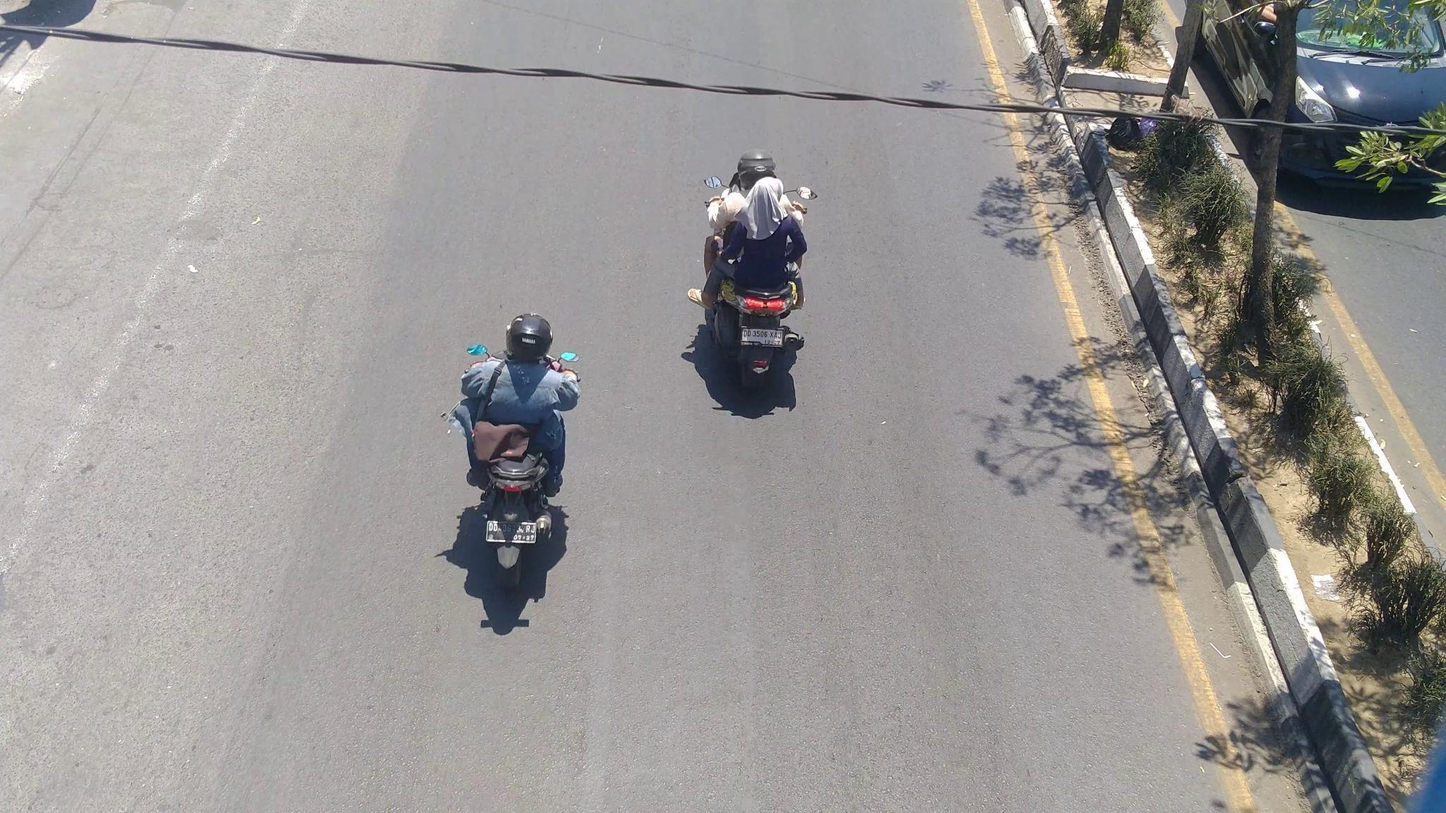Helmet: (502, 306, 556, 366), (735, 147, 778, 188)
bike: (461, 339, 585, 589), (698, 174, 819, 388)
no-helmet: (749, 174, 786, 217)
number-plate: (485, 519, 537, 543), (741, 327, 785, 349)
rider: (456, 308, 583, 499), (687, 174, 810, 313), (702, 141, 807, 271)
